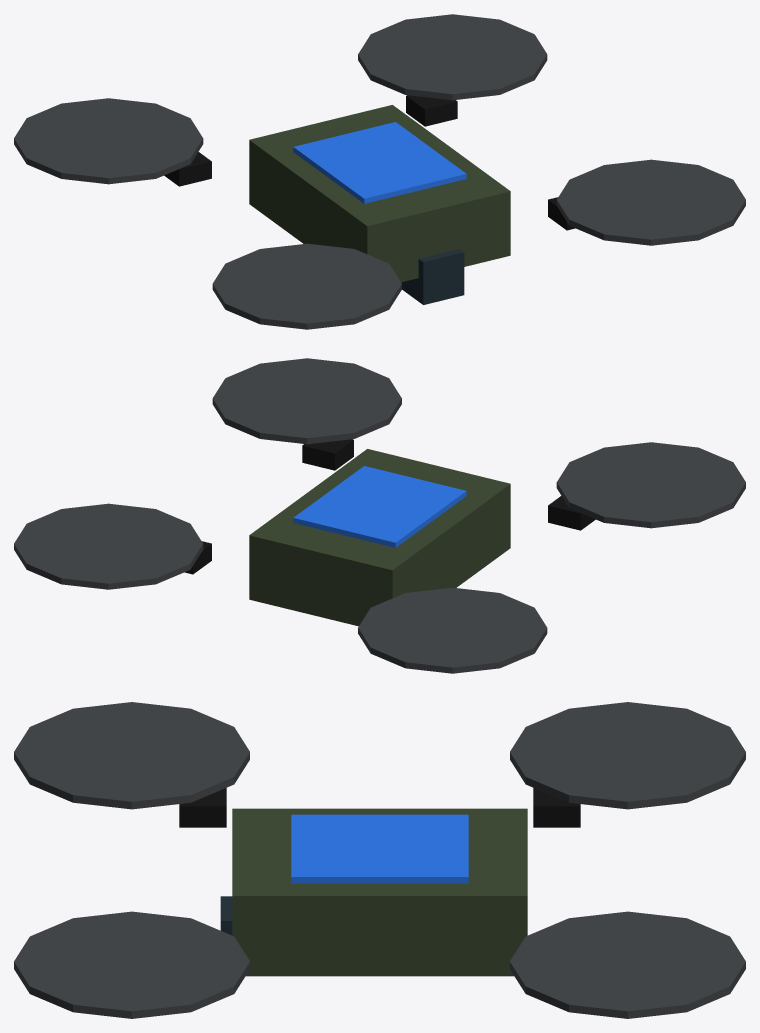
Rendered from ru_recon_drone.glb.
3 renders of one model, top to bottom at view 1: azimuth 30°, elevation 25°; view 2: azimuth 150°, elevation 25°; view 3: azimuth 270°, elevation 25°, orthographic. The views are drawn at different scales.
Parts seen in each view (by area): view 1: body, rotor_0, rotor_3, rotor_1, rotor_2, team_plate, camera_pod, arm_3, arm_2; view 2: body, rotor_1, rotor_2, rotor_0, rotor_3, team_plate, arm_1, arm_0; view 3: body, rotor_0, rotor_1, rotor_2, rotor_3, team_plate, arm_0, arm_2.
Part boxes in pixels (x1,y1,x2,y2): body: (249, 105, 510, 282); rotor_0: (212, 243, 401, 329); rotor_3: (358, 14, 547, 100); rotor_1: (556, 159, 745, 245); rotor_2: (14, 98, 203, 184); team_plate: (293, 122, 466, 203); camera_pod: (401, 249, 464, 304); arm_3: (406, 95, 457, 126); arm_2: (164, 152, 211, 186); body: (249, 449, 510, 626); rotor_1: (212, 358, 401, 444); rotor_2: (358, 587, 547, 673); rotor_0: (556, 442, 745, 528); rotor_3: (14, 503, 203, 589); team_plate: (293, 466, 466, 547); arm_1: (302, 439, 353, 470); arm_0: (548, 496, 595, 530); body: (232, 808, 527, 976); rotor_0: (14, 702, 249, 809); rotor_1: (14, 911, 249, 1018); rotor_2: (510, 702, 745, 809); rotor_3: (510, 911, 745, 1018); team_plate: (291, 814, 468, 883); arm_0: (179, 788, 226, 827); arm_2: (533, 788, 580, 827).
Bounding box in the file's own units: 1.74 × 0.304 × 1.74.
